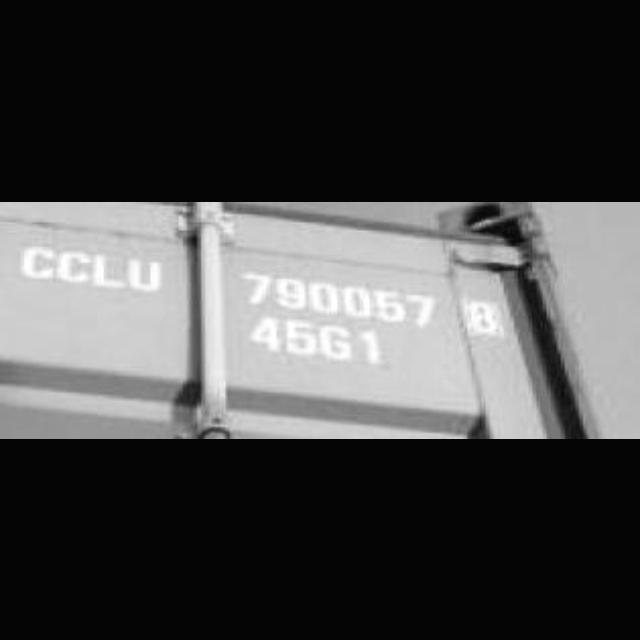0: (307, 272, 338, 322), (341, 276, 372, 322)
1: (358, 324, 386, 368)
4: (251, 312, 283, 362)
5: (282, 314, 318, 364), (372, 280, 406, 328)
7: (405, 282, 445, 332), (239, 267, 275, 311)
8: (462, 296, 502, 342)
9: (274, 268, 308, 318)
c: (19, 238, 59, 288), (54, 243, 94, 281)
g: (314, 318, 356, 368)
l: (91, 252, 127, 290)
u: (126, 253, 170, 295)
